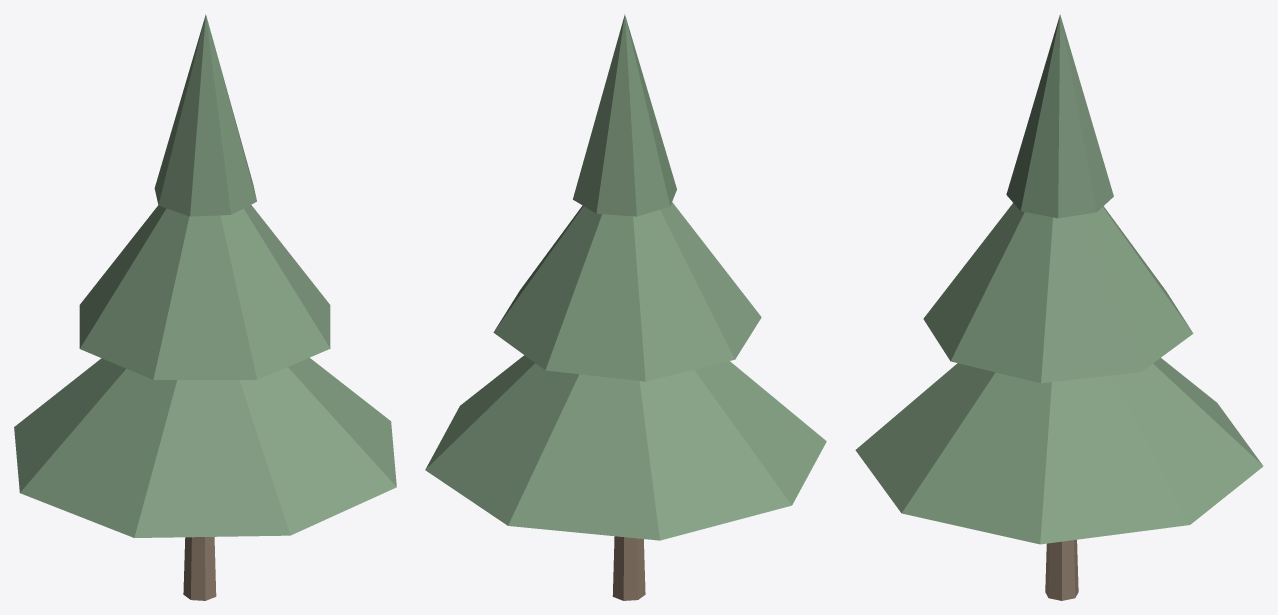
Rendered from node_tree_arid_1.glb.
The picture shows the model from 3 angles, left to right: view 1: azimuth 30°, elevation 25°; view 2: azimuth 150°, elevation 25°; view 3: azimuth 270°, elevation 25°; orthographic projection.
Parts seen in each view (by area): view 1: node_tree_arid_1; view 2: node_tree_arid_1; view 3: node_tree_arid_1.
Part boxes in pixels (left/top/right/bottom): node_tree_arid_1: left=14, top=14, right=396, bottom=600; node_tree_arid_1: left=425, top=14, right=826, bottom=600; node_tree_arid_1: left=855, top=14, right=1263, bottom=600.
Bounding box in the file's own units: 5.25 × 8.26 × 5.25.
